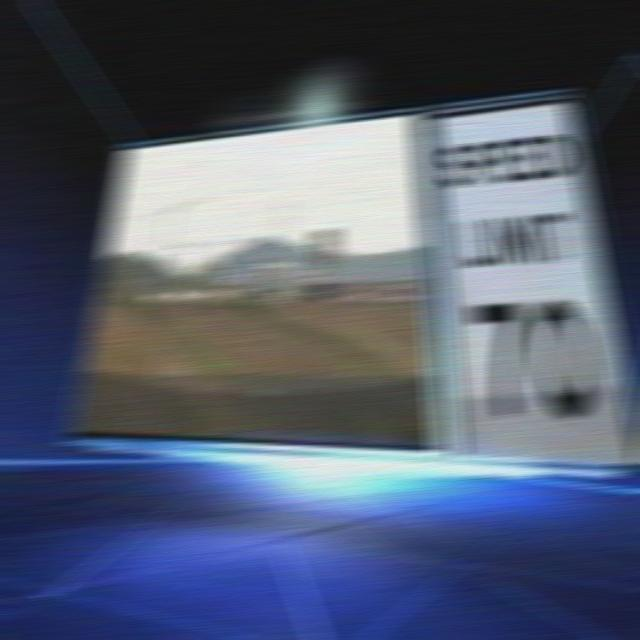speedLimit70: (426, 110, 631, 470)
